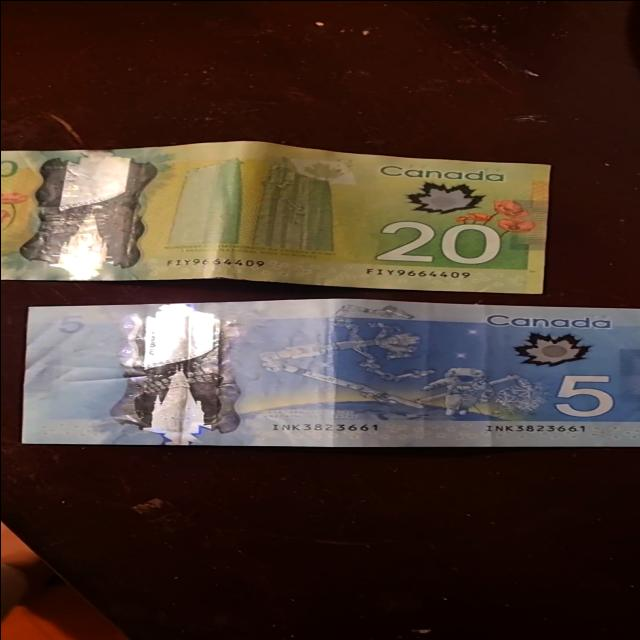20 cad: (0, 139, 551, 293)
5 cad: (23, 298, 640, 448)
